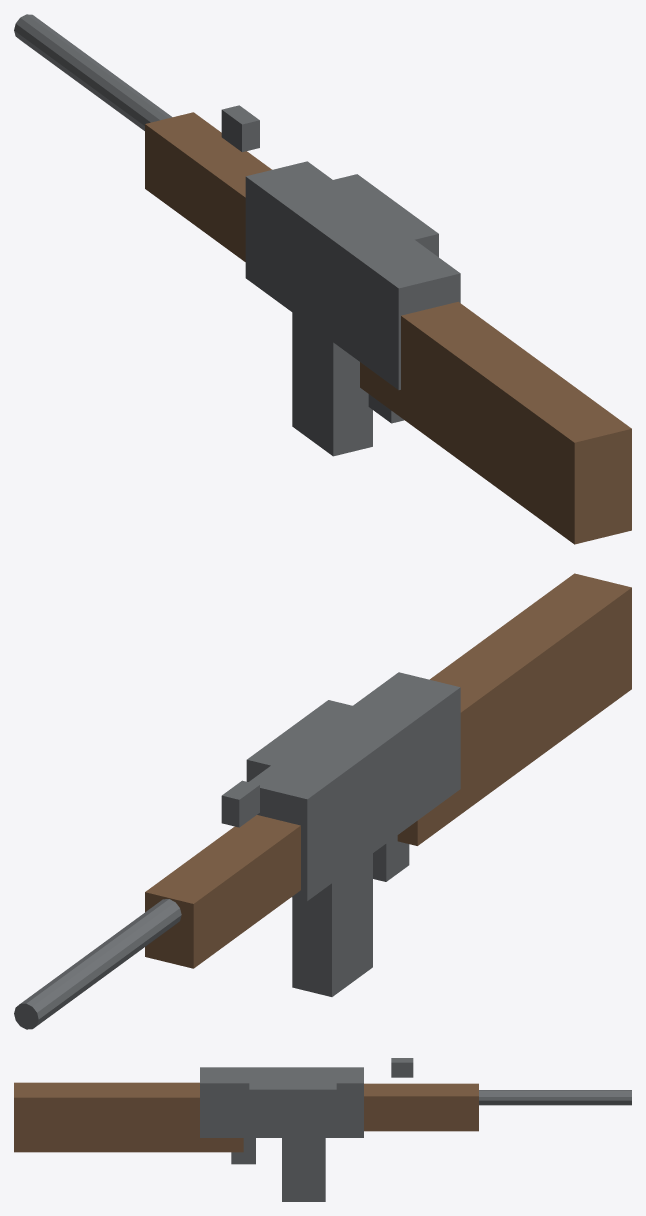
Rendered from sks.glb.
The picture shows the model from 3 angles, top to bottom: view 1: azimuth 30°, elevation 25°; view 2: azimuth 150°, elevation 25°; view 3: azimuth 270°, elevation 25°; orthographic projection. The views are drawn at different scales.
Parts seen in each view (by area): view 1: Stock, Receiver, Handguard, Magazine, Barrel, Bolt, Sight; view 2: Stock, Receiver, Handguard, Magazine, Barrel, Bolt, Sight, Trigger; view 3: Stock, Receiver, Handguard, Magazine, Barrel, Bolt, Trigger, Sight.
Part boxes in pixels (x1,y1,x2,y2): Stock: (360,301,631,544); Receiver: (245,161,460,389); Handguard: (145,112,271,261); Magazine: (292,312,372,456); Barrel: (14,14,172,130); Bolt: (333,174,438,257); Sight: (221,105,259,152); Stock: (397,573,631,845); Receiver: (249,672,460,900); Handguard: (145,815,300,968); Magazine: (292,853,372,996); Barrel: (14,899,181,1029); Bolt: (246,700,358,781); Sight: (221,780,259,827); Trigger: (373,835,409,881); Stock: (14,1082,243,1152); Receiver: (200,1067,363,1137); Handguard: (364,1083,478,1131); Magazine: (282,1138,325,1201); Barrel: (479,1090,631,1105); Bolt: (249,1081,336,1104); Trigger: (231,1138,255,1164); Sight: (391,1058,413,1077).
Size of the model in its own units: 0.0975 by 0.275 by 1.13.
